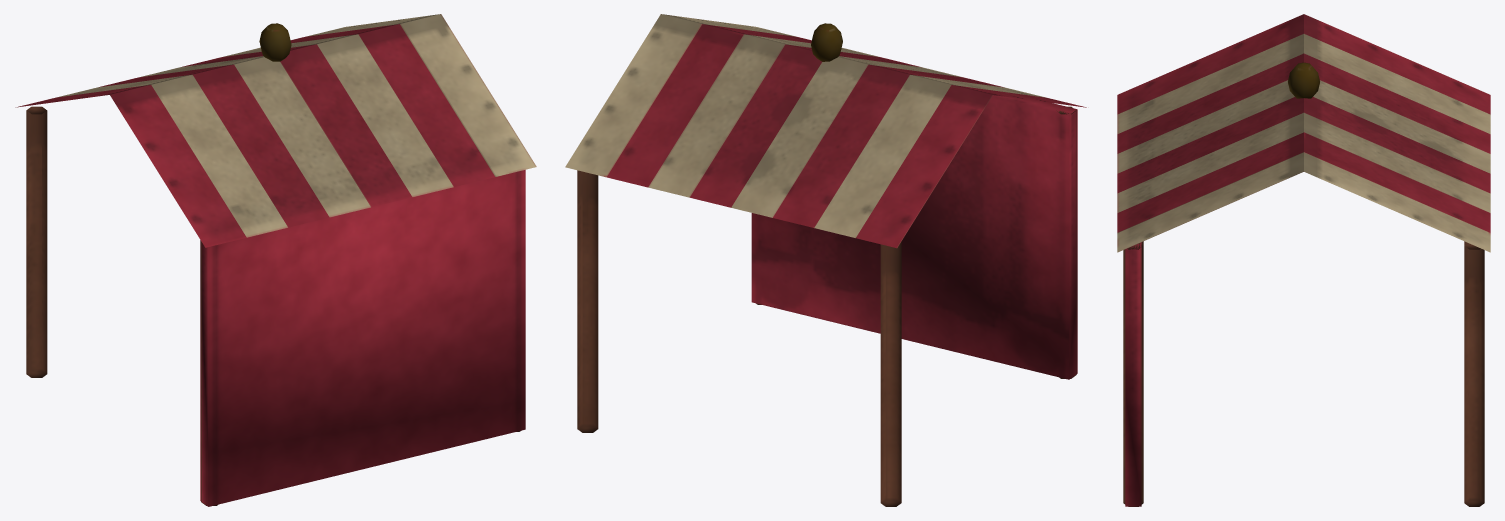
File: circus_tent.obj
The picture shows the model from 3 angles, left to right: view 1: azimuth 30°, elevation 25°; view 2: azimuth 150°, elevation 25°; view 3: azimuth 270°, elevation 25°; orthographic projection. The views are drawn at different scales.
Visible parts, largest first — view 1: part1, part2, part0, part3; view 2: part1, part2, part0, part3; view 3: part1, part2, part0, part3.
Boxes of the visible parts, x1=… form: part1: x1=15, y1=24, x2=525, y2=506; part2: x1=58, y1=14, x2=536, y2=237; part0: x1=26, y1=106, x2=520, y2=505; part3: x1=259, y1=23, x2=291, y2=61; part1: x1=607, y1=24, x2=1086, y2=379; part2: x1=565, y1=14, x2=1045, y2=237; part0: x1=577, y1=106, x2=1076, y2=506; part3: x1=811, y1=23, x2=842, y2=61; part1: x1=1117, y1=14, x2=1490, y2=506; part2: x1=1117, y1=34, x2=1490, y2=252; part0: x1=1123, y1=241, x2=1484, y2=506; part3: x1=1288, y1=62, x2=1319, y2=98.
Bounding box in the file's own units: 0.92 × 1 × 0.92.
